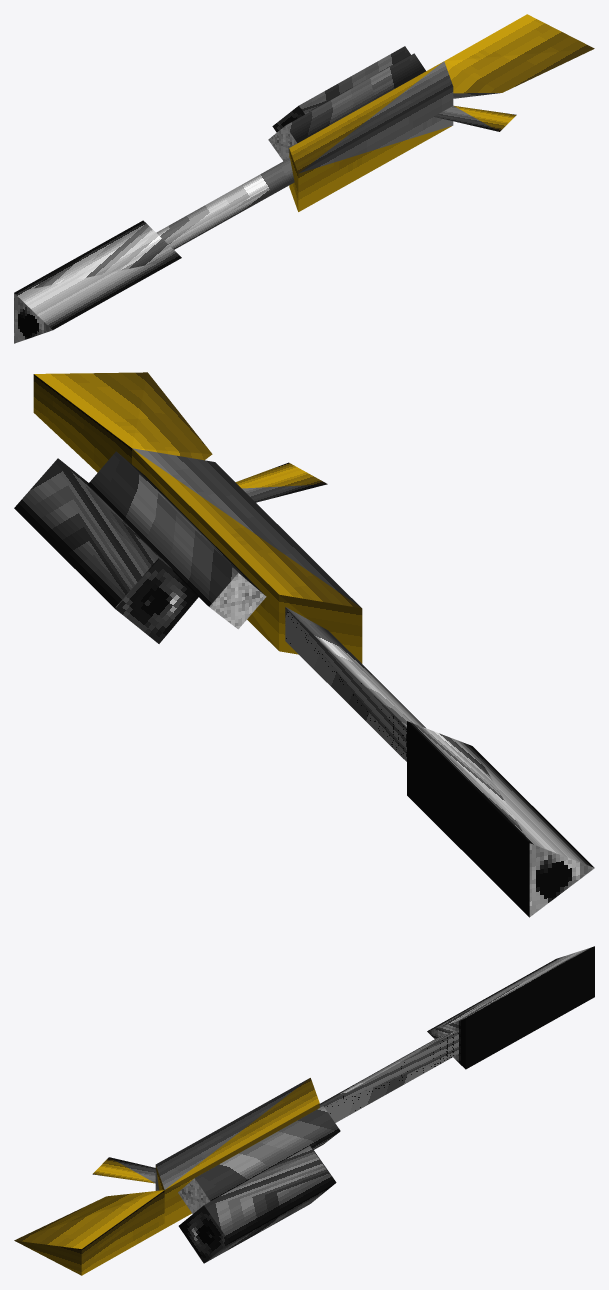
File: primary_070.glb
3 views of the same model, one above another, from view 1: azimuth 90°, elevation 25°; view 2: azimuth 150°, elevation 25°; view 3: azimuth 270°, elevation 25° (orthographic). The views are drawn at different scales.
Parts seen in each view (by area): view 1: Object; view 2: Object; view 3: Object.
Part boxes in pixels (bbox=[...]): Object: bbox=[14, 14, 594, 343]; Object: bbox=[14, 372, 594, 917]; Object: bbox=[14, 946, 594, 1275].
Bounding box in the file's own units: 0.967 × 0.1018 × 0.783.
11 materials, 11 textured.
